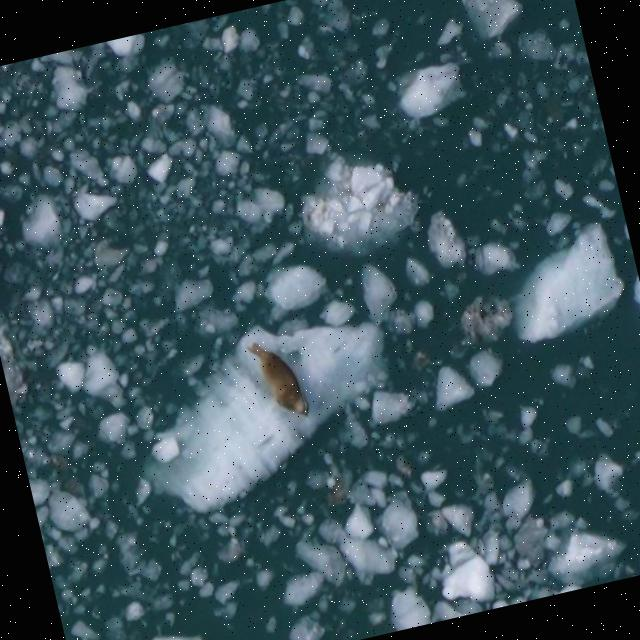seal: (244, 330, 315, 425)
